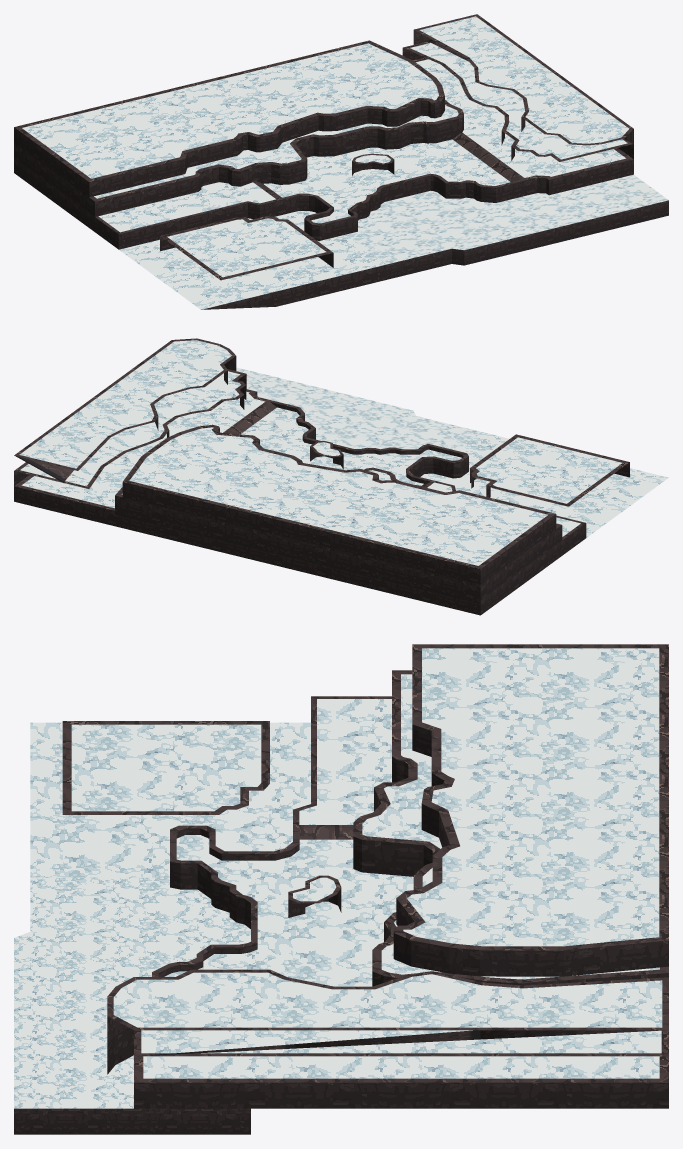
Rendered from map_mesh_titans_respite_5.glb.
The picture shows the model from 3 angles, top to bottom: view 1: azimuth 30°, elevation 25°; view 2: azimuth 150°, elevation 25°; view 3: azimuth 270°, elevation 25°; orthographic projection. The views are drawn at different scales.
Parts seen in each view (by area): view 1: Plane.114, Plane.096, Plane.120, Plane.118, Plane.115, Plane.121, Plane.117, Plane.116, Plane.119; view 2: Plane.114, Plane.096, Plane.115, Plane.118, Plane.120, Plane.117, Plane.121, Plane.116, Plane.119; view 3: Plane.114, Plane.096, Plane.120, Plane.115, Plane.121, Plane.117, Plane.118, Plane.116, Plane.119.
Part boxes in pixels (bbox=[...]): Plane.114: bbox=[14, 40, 444, 197]; Plane.096: bbox=[14, 57, 633, 249]; Plane.120: bbox=[346, 174, 668, 279]; Plane.118: bbox=[14, 100, 463, 216]; Plane.115: bbox=[413, 14, 633, 145]; Plane.121: bbox=[119, 211, 386, 309]; Plane.117: bbox=[160, 216, 333, 280]; Plane.116: bbox=[402, 41, 633, 161]; Plane.119: bbox=[352, 153, 394, 175]; Plane.114: bbox=[122, 424, 556, 584]; Plane.096: bbox=[14, 389, 586, 615]; Plane.115: bbox=[14, 338, 236, 482]; Plane.118: bbox=[115, 467, 562, 603]; Plane.120: bbox=[236, 367, 481, 450]; Plane.117: bbox=[470, 434, 629, 506]; Plane.121: bbox=[420, 432, 668, 537]; Plane.116: bbox=[14, 369, 246, 488]; Plane.119: bbox=[310, 441, 343, 469]; Plane.114: bbox=[393, 644, 668, 976]; Plane.096: bbox=[134, 696, 668, 1108]; Plane.120: bbox=[14, 877, 250, 1134]; Plane.115: bbox=[107, 969, 668, 1074]; Plane.121: bbox=[30, 722, 310, 877]; Plane.117: bbox=[62, 721, 269, 814]; Plane.118: bbox=[353, 670, 668, 986]; Plane.116: bbox=[134, 1030, 668, 1056]; Plane.119: bbox=[288, 875, 341, 917].
Size of the model in its own units: 63.39 by 8 by 45.45.
Materials: 3 (3 with a texture image).
